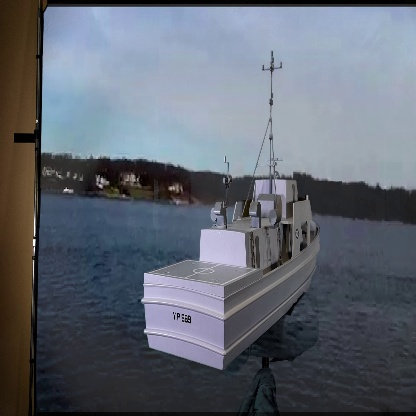YP689: (142, 49, 323, 373)
